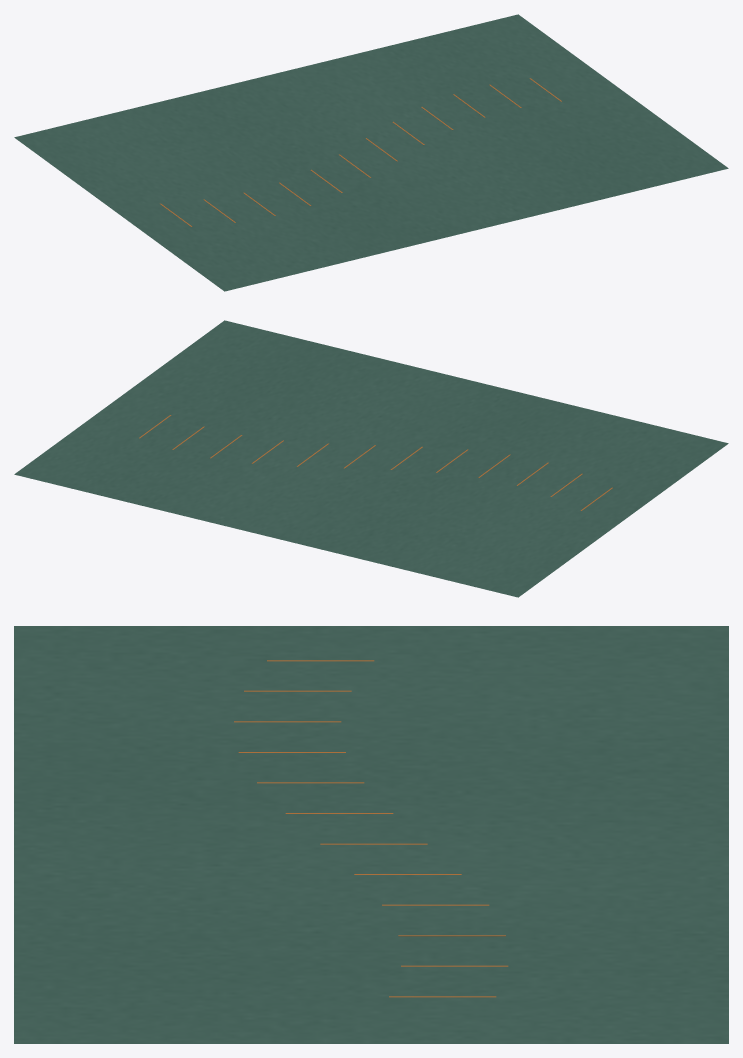
Rendered from 295_L120_L30_LayerReference.obj.
The picture shows the model from 3 angles, top to bottom: view 1: azimuth 30°, elevation 25°; view 2: azimuth 150°, elevation 25°; view 3: azimuth 270°, elevation 25°; orthographic projection. The views are drawn at different scales.
Parts seen in each view (by area): view 1: 295_L120_L30_LayerReference; view 2: 295_L120_L30_LayerReference; view 3: 295_L120_L30_LayerReference.
Boxes of the visible parts, x1,y1,x2,y2 form: 295_L120_L30_LayerReference: (14,14,728,291); 295_L120_L30_LayerReference: (14,320,728,597); 295_L120_L30_LayerReference: (14,626,728,1043).
Bounding box in the file's own units: 0.506 × 4e-05 × 0.366.
Materials: 2 (2 with a texture image).
